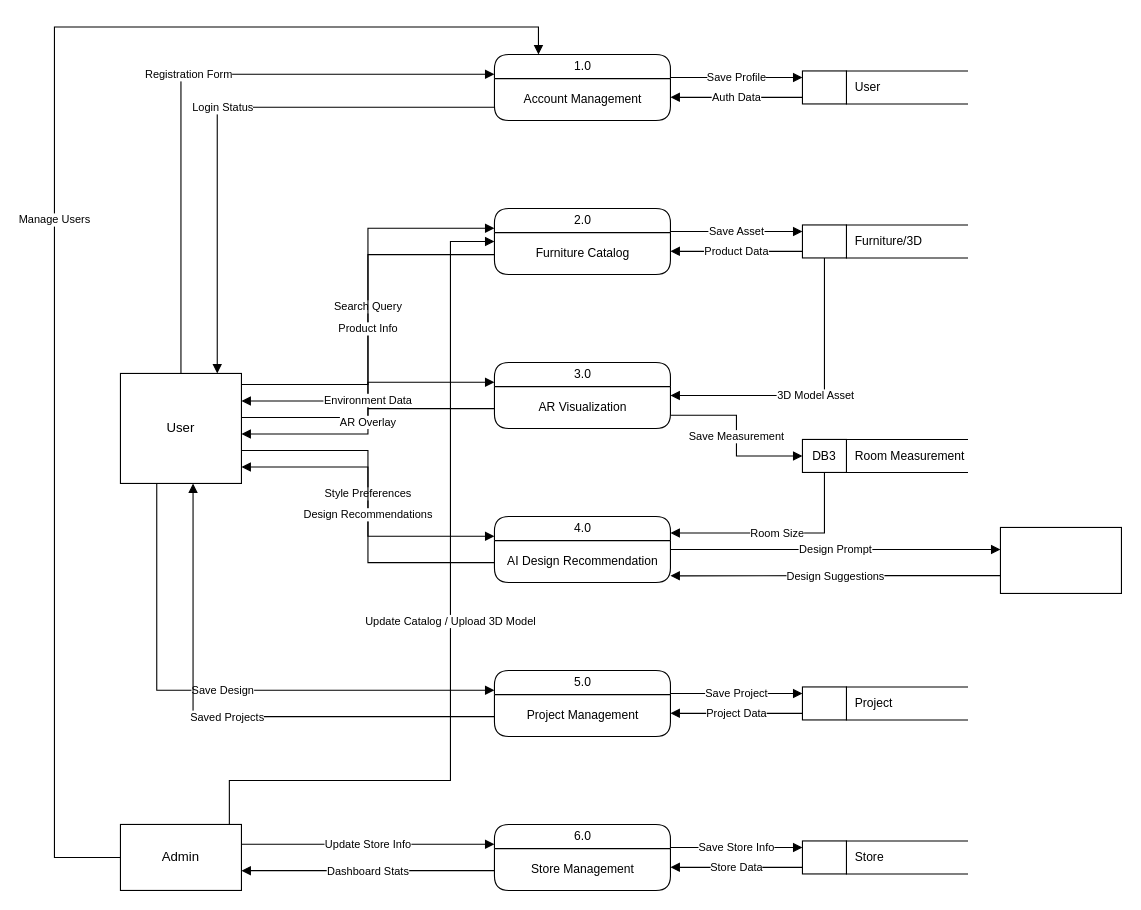
Image size: 1141x910. Some labels were removed from this diagram. The shapes that lost their labels are listed below. From the top down, each one's centre as x and y in pixels, then its label:
At point 823,87: "DB1".
At point 823,241: "DB2".
At point 1060,559: "AI Services".
At point 823,703: "DB4".
At point 823,857: "DB5".
